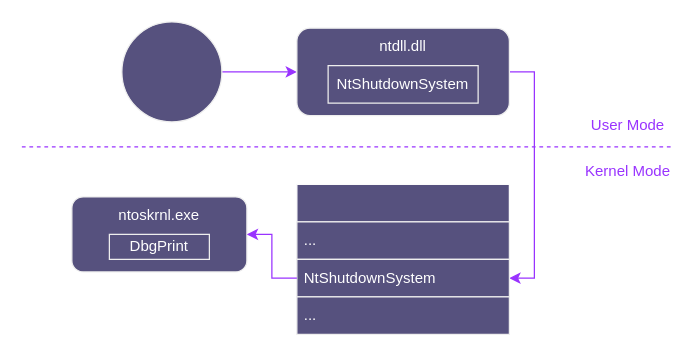
Image size: 700x356. Some labels were removed from this diagram. Each missing label, with the box of its shape:
SSDT: (296, 183, 509, 334)
User Application: (121, 21, 222, 122)
